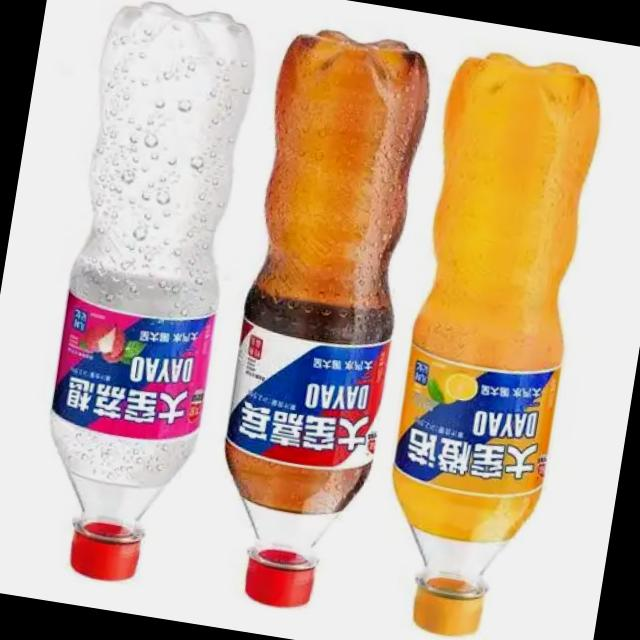bottle: (363, 40, 618, 640), (194, 18, 446, 622), (18, 0, 269, 593)
